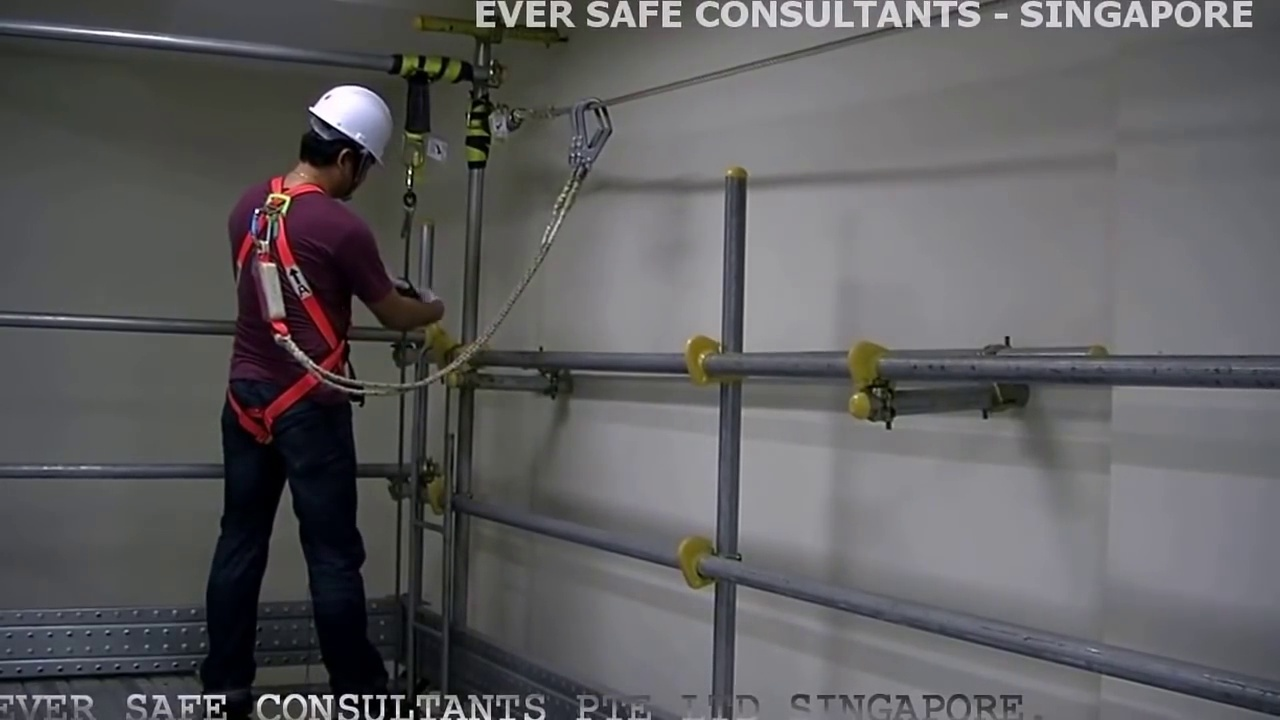harness: (230, 179, 343, 435)
helmet: (307, 77, 396, 172)
hook: (563, 95, 618, 183)
leash: (447, 207, 568, 391)
